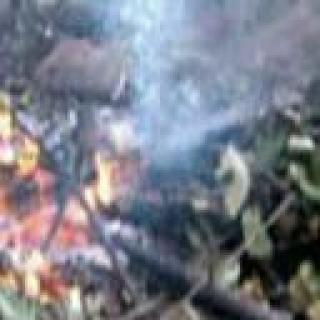fire: (0, 38, 104, 286)
